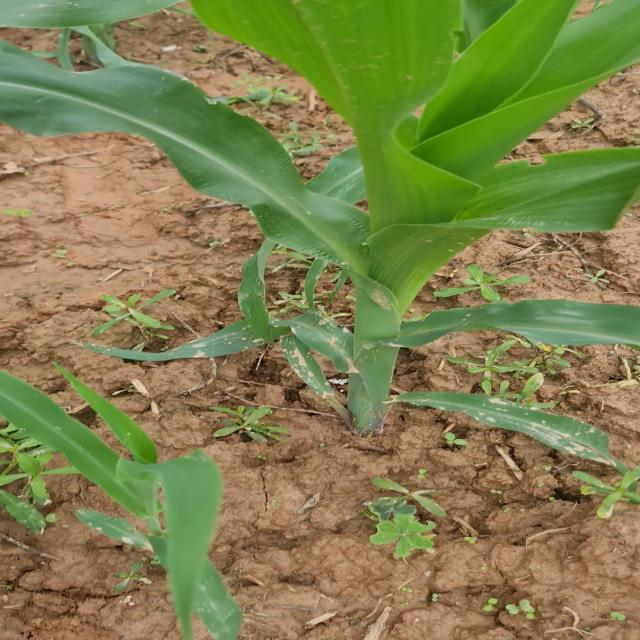maize: (0, 0, 640, 445), (24, 382, 258, 622)
weed: (362, 473, 474, 575), (557, 462, 640, 523)
